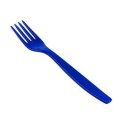fork: (8, 16, 119, 109)
